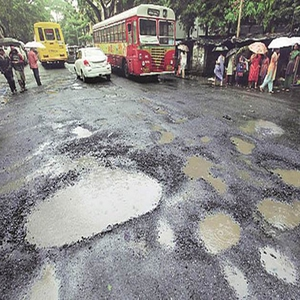pothole: (20, 156, 165, 253), (191, 201, 246, 256), (178, 148, 233, 195), (255, 192, 300, 230), (260, 153, 300, 192), (241, 118, 286, 137), (228, 134, 258, 157)
